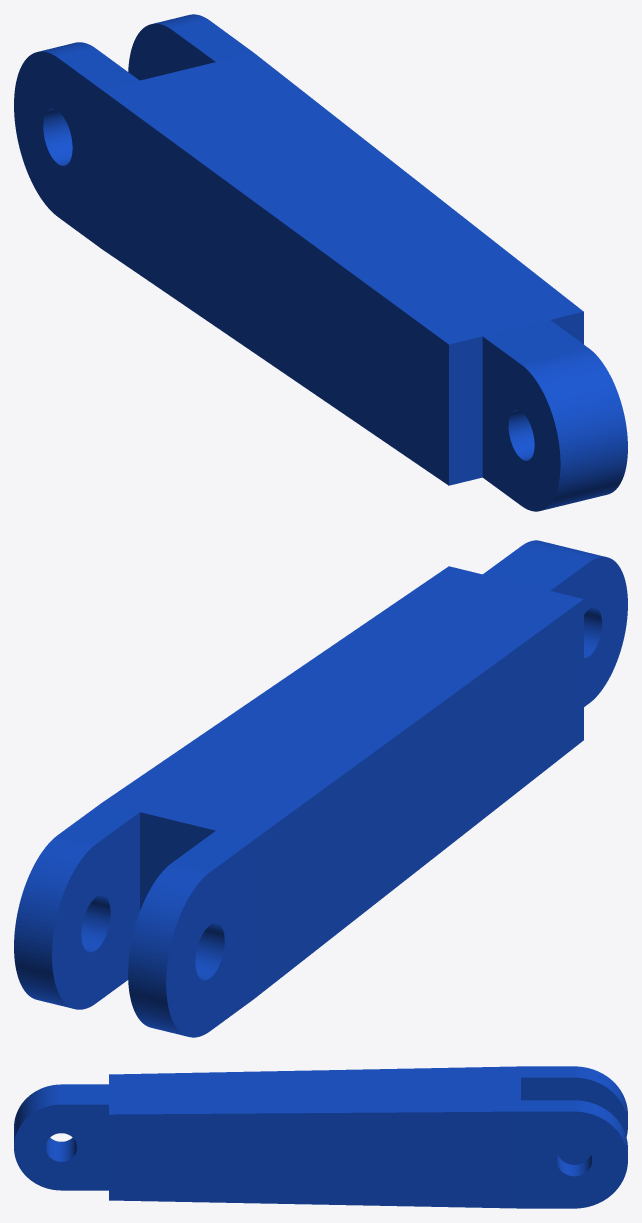
3 renders of one model, top to bottom at view 1: azimuth 30°, elevation 25°; view 2: azimuth 150°, elevation 25°; view 3: azimuth 270°, elevation 25°, orthographic. The views are drawn at different scales.
Visible parts, largest first — view 1: node; view 2: node; view 3: node.
Boxes of the visible parts, left/top/right/bottom form: node: left=14, top=14, right=627, bottom=511; node: left=14, top=540, right=627, bottom=1037; node: left=14, top=1066, right=627, bottom=1208.
Size of the model in its own units: 0.0779 by 0.0779 by 0.4469.
